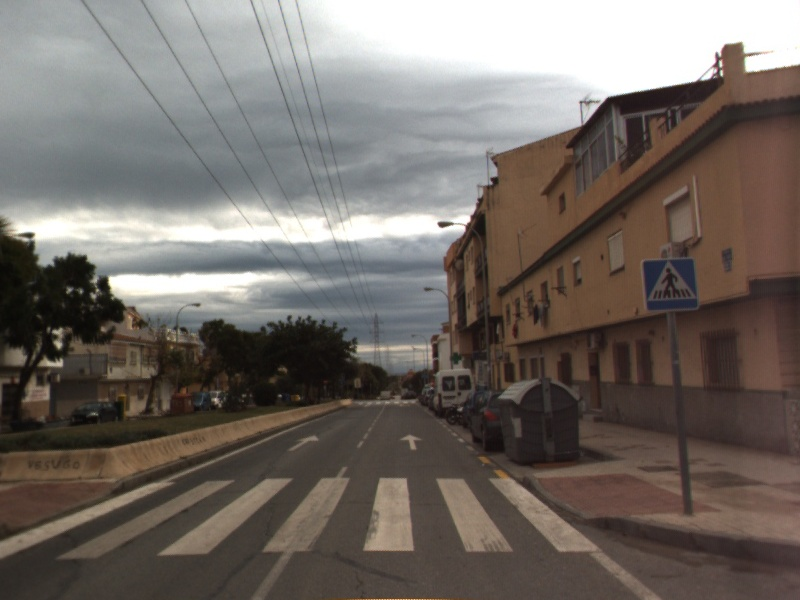STRAIGHT: (286, 433, 321, 453), (398, 432, 424, 452)
